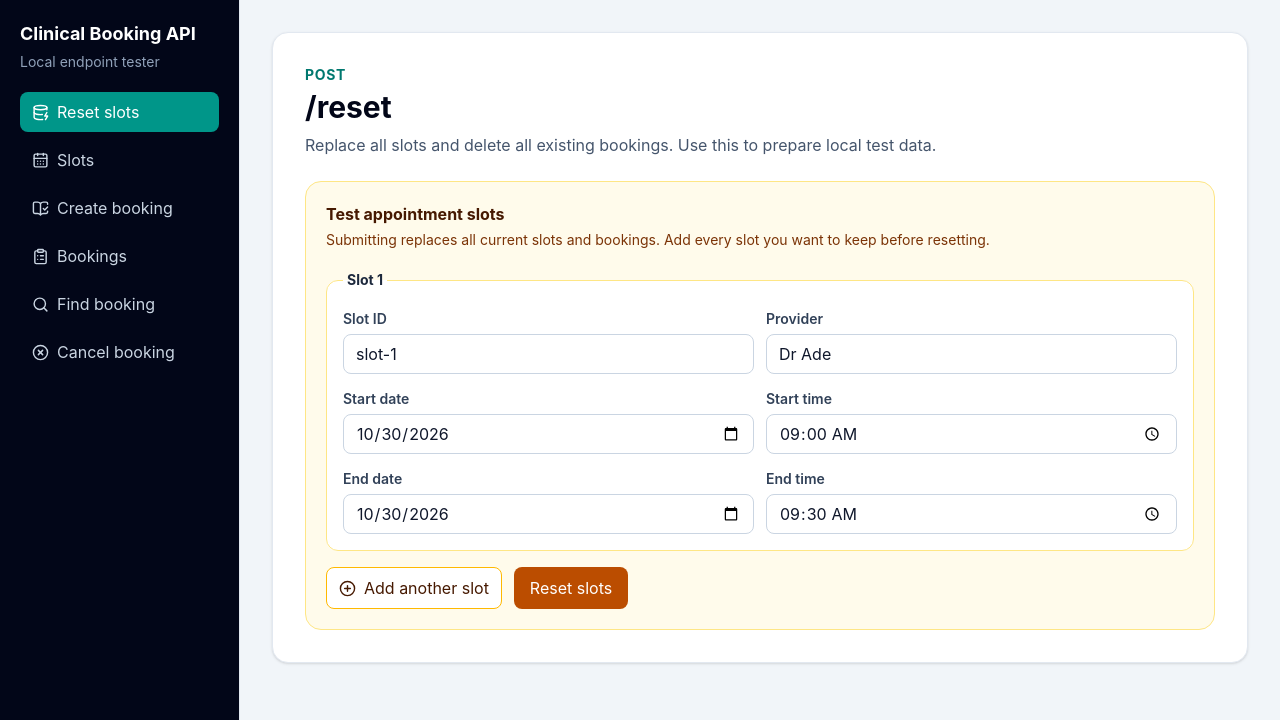
Test: Clinical Booking API tester › replaces all-slots results when an exact provider search has no matches
The image size is (1280, 720).
Click the button "Slots".
click(120, 160)  # box [20,140,219,180]
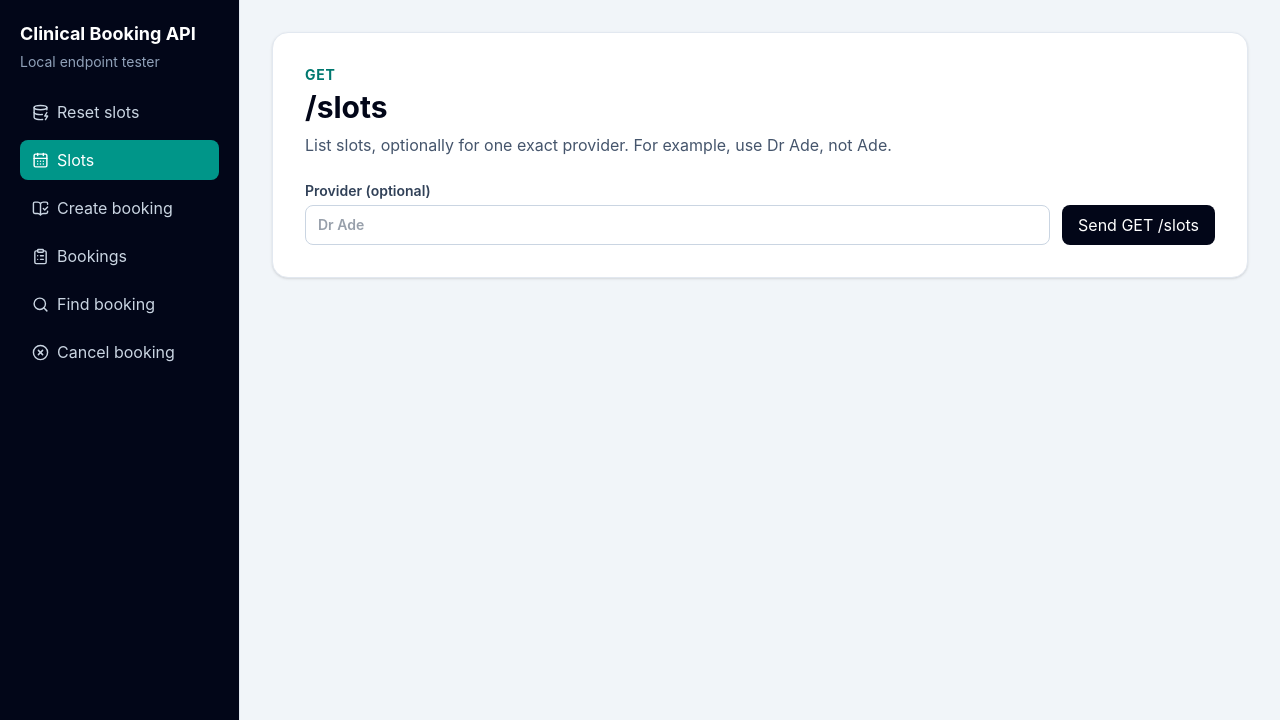
Click the button "Send GET /slots".
click(1139, 225)  # box [1062,205,1215,245]
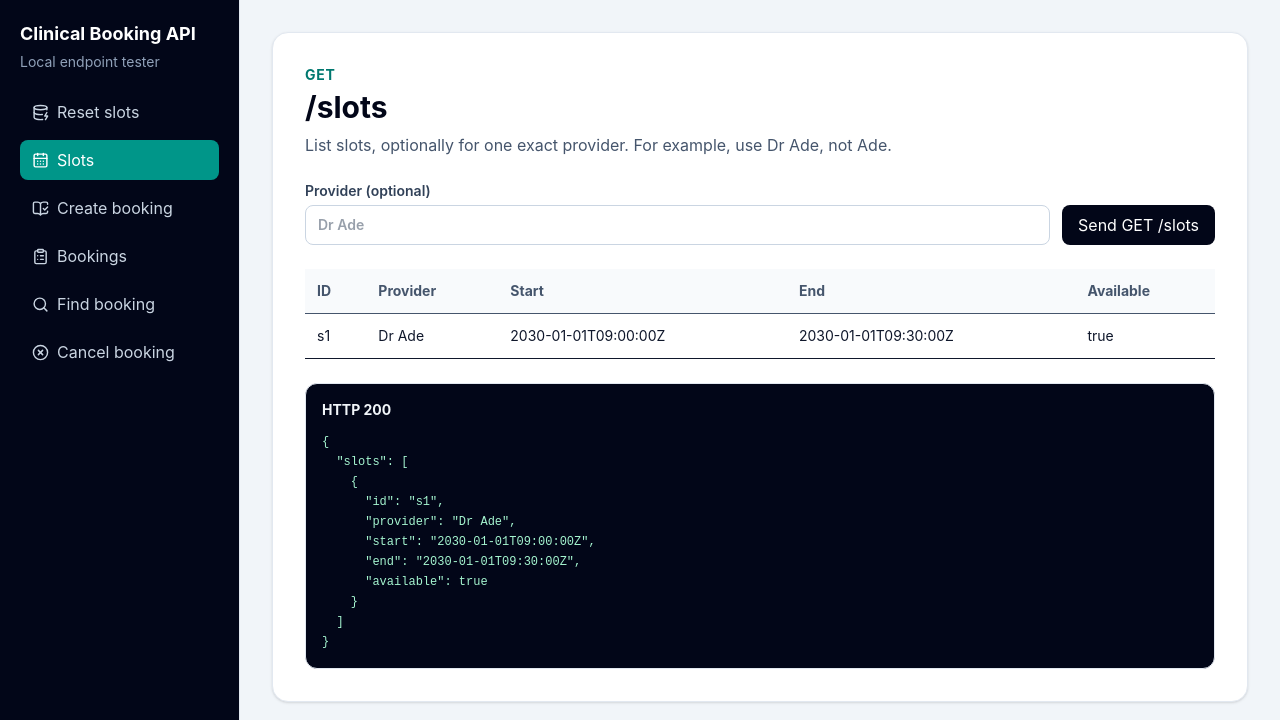
Expected: the text "s1" is shown, [305,314,366,358]
Type "Dr Nobody" into the field labelled "Provider (optional)".
click(678, 225); type("Dr Nobody")  # box [305,205,1050,245]
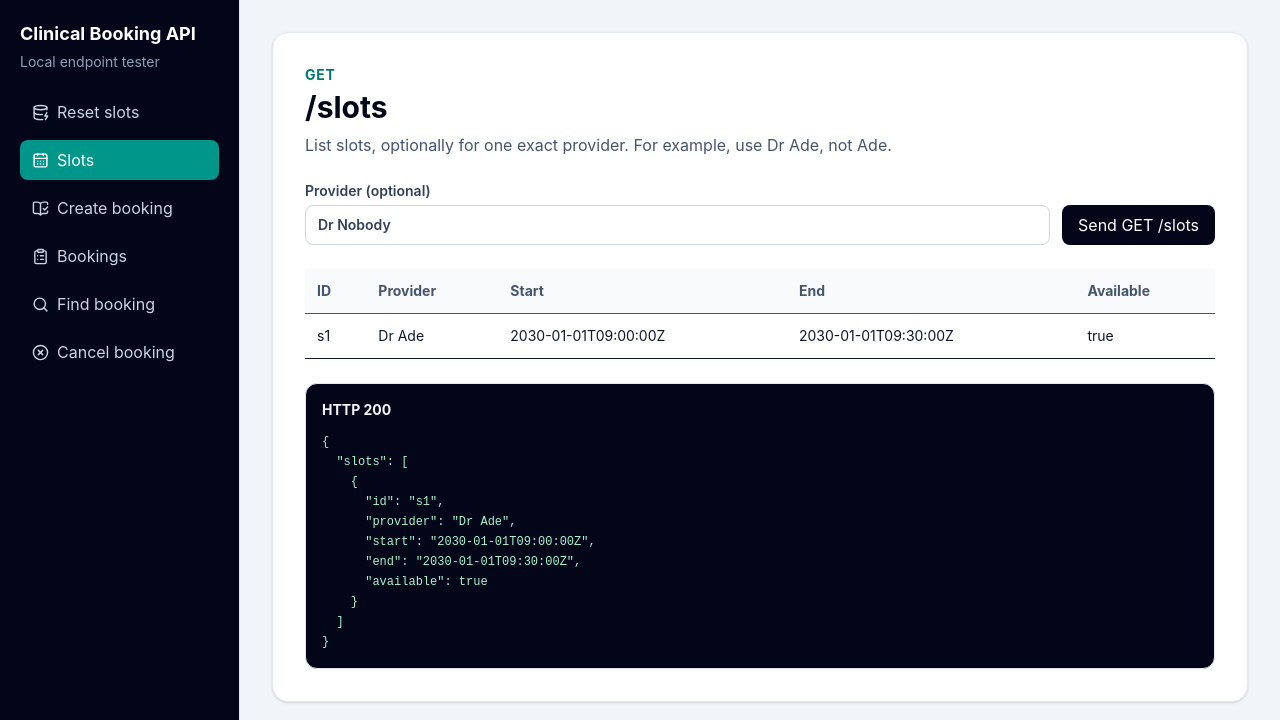
Click the button "Send GET /slots".
click(1139, 225)  # box [1062,205,1215,245]
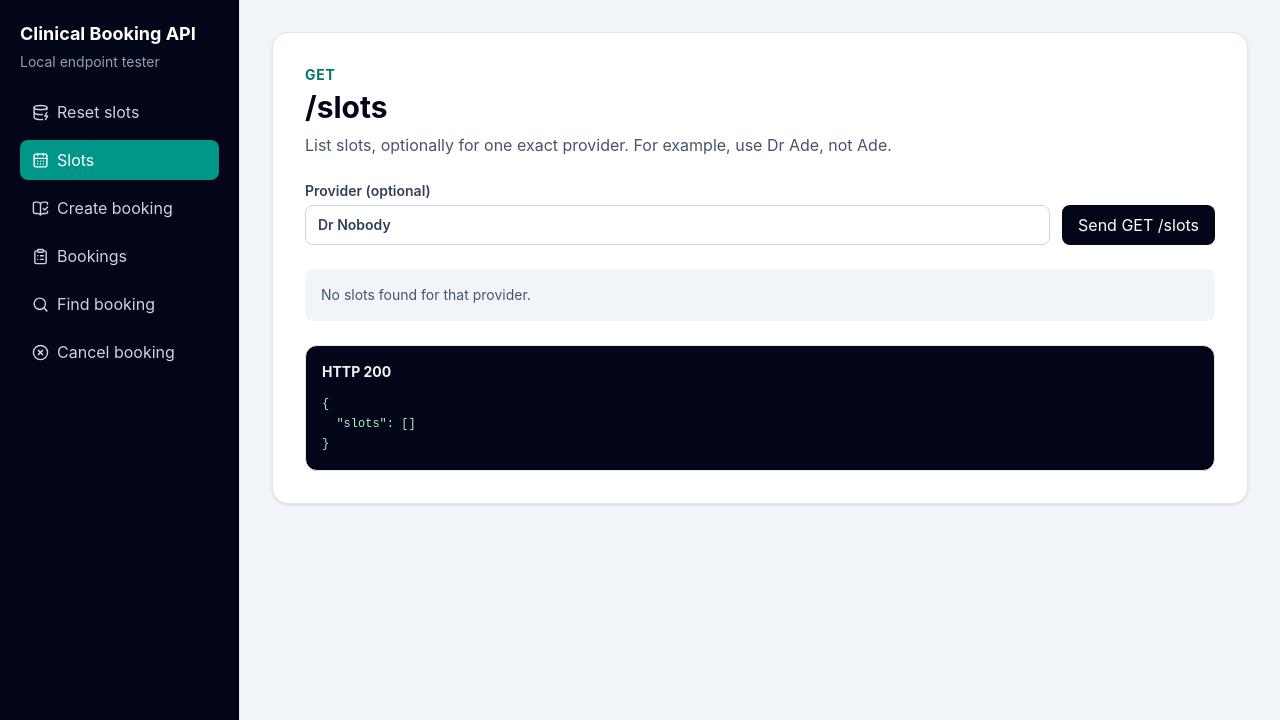
Expected: the text "No slots found for that provider." is shown, [305,269,1215,321]
Expected: the text "s1" is gone
